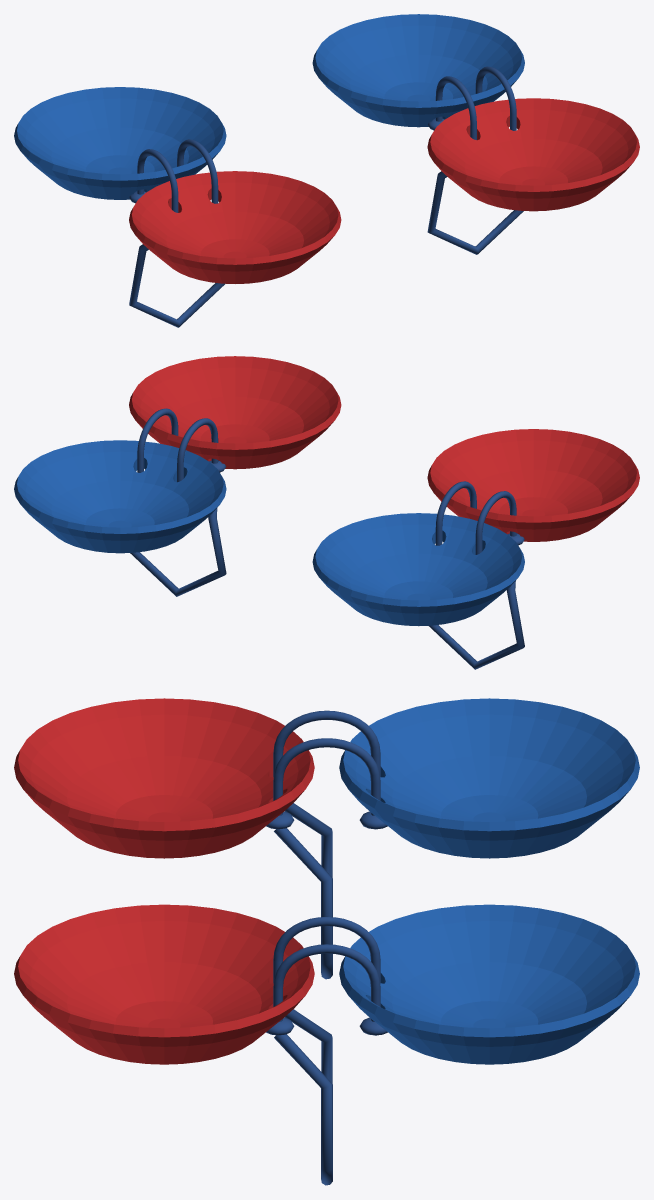
File: A-NEW-20261026-CASTANETS-PAIR-001_LOD1_R4.glb
3 renders of one model, top to bottom at view 1: azimuth 30°, elevation 25°; view 2: azimuth 150°, elevation 25°; view 3: azimuth 270°, elevation 25°, orthographic. The views are drawn at different scales.
Parts seen in each view (by area): view 1: right cup shell 0, left cup shell 0, right cup shell 1, left cup shell 1, left finger elastic loop, right finger elastic loop, left hinge elastic -0.008, left hinge elastic 0.008, right hinge elastic -0.008, right hinge elastic 0.008; view 2: right cup shell 1, left cup shell 1, right cup shell 0, left cup shell 0, left finger elastic loop, right finger elastic loop, left hinge elastic -0.008, left hinge elastic 0.008, right hinge elastic -0.008, right hinge elastic 0.008; view 3: right cup shell 0, right cup shell 1, left cup shell 0, left cup shell 1, right finger elastic loop, left finger elastic loop, right hinge elastic 0.008, left hinge elastic 0.008, left hinge elastic -0.008, right hinge elastic -0.008.
Boxes of the visible parts, x1,y1,x2,y2 form: right cup shell 0: [427, 98, 639, 211]; left cup shell 0: [129, 171, 341, 283]; right cup shell 1: [312, 14, 524, 127]; left cup shell 1: [14, 87, 226, 199]; left finger elastic loop: [129, 244, 225, 327]; right finger elastic loop: [427, 171, 523, 254]; left hinge elastic -0.008: [137, 149, 178, 212]; left hinge elastic 0.008: [177, 139, 218, 203]; right hinge elastic -0.008: [435, 76, 476, 139]; right hinge elastic 0.008: [475, 66, 516, 130]; right cup shell 1: [14, 440, 226, 553]; left cup shell 1: [312, 513, 524, 626]; right cup shell 0: [129, 356, 341, 469]; left cup shell 0: [427, 429, 639, 541]; left finger elastic loop: [428, 581, 524, 669]; right finger elastic loop: [130, 508, 226, 596]; left hinge elastic -0.008: [475, 491, 516, 554]; left hinge elastic 0.008: [435, 481, 476, 545]; right hinge elastic -0.008: [177, 418, 218, 482]; right hinge elastic 0.008: [137, 408, 178, 472]; right cup shell 0: [14, 904, 314, 1064]; right cup shell 1: [339, 904, 639, 1064]; left cup shell 0: [14, 698, 314, 858]; left cup shell 1: [339, 698, 639, 858]; right finger elastic loop: [274, 1009, 332, 1185]; left finger elastic loop: [274, 803, 332, 979]; right hinge elastic 0.008: [273, 944, 380, 1035]; left hinge elastic 0.008: [273, 738, 380, 815]; left hinge elastic -0.008: [273, 710, 380, 776]; right hinge elastic -0.008: [273, 917, 380, 982].
Size of the model in its own units: 0.194 by 0.0692 by 0.154.
